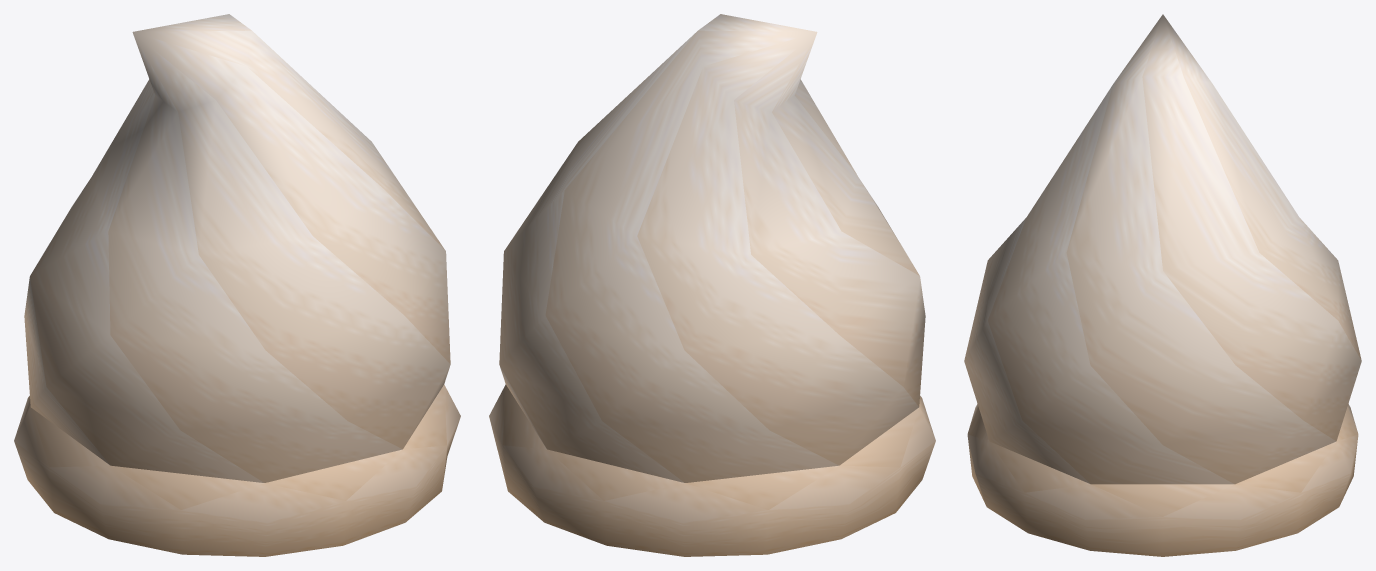
Rendered from icecream_softserve_icecream_vanilla.gltf.
3 renders of one model, left to right at view 1: azimuth 30°, elevation 25°; view 2: azimuth 150°, elevation 25°; view 3: azimuth 270°, elevation 25°, orthographic. The views are drawn at different scales.
Parts seen in each view (by area): view 1: icecream_softserve_icecream_vanilla; view 2: icecream_softserve_icecream_vanilla; view 3: icecream_softserve_icecream_vanilla.
Part boxes in pixels (bbox=[...]): icecream_softserve_icecream_vanilla: bbox=[14, 14, 460, 556]; icecream_softserve_icecream_vanilla: bbox=[489, 14, 935, 556]; icecream_softserve_icecream_vanilla: bbox=[964, 14, 1361, 556].
Bounding box in the file's own units: 0.4499 × 0.5359 × 0.45.
1 material, 1 textured.
